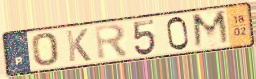0: (30, 32, 61, 67), (165, 15, 190, 52)
5: (132, 18, 156, 56)
K: (64, 27, 93, 64)
M: (191, 9, 233, 51)
R: (93, 22, 130, 62)
